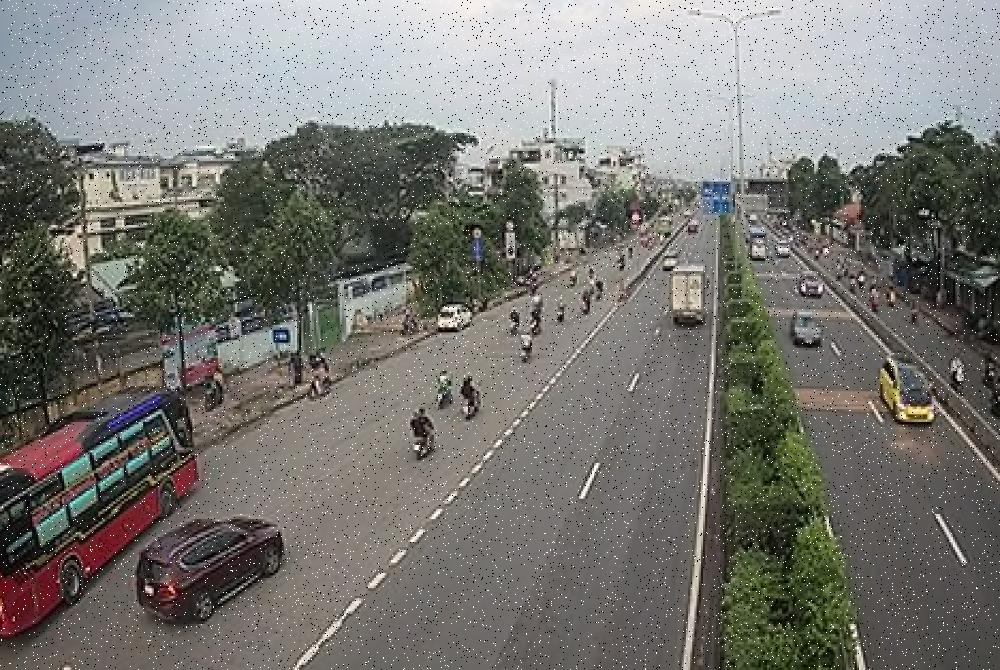bus: (0, 386, 201, 639)
car: (134, 513, 284, 629), (880, 354, 938, 426)
truck: (667, 264, 707, 327)
